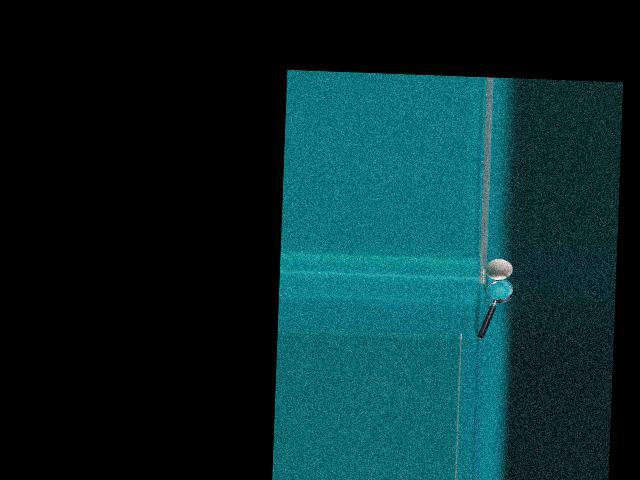egg: (485, 258, 513, 280)
